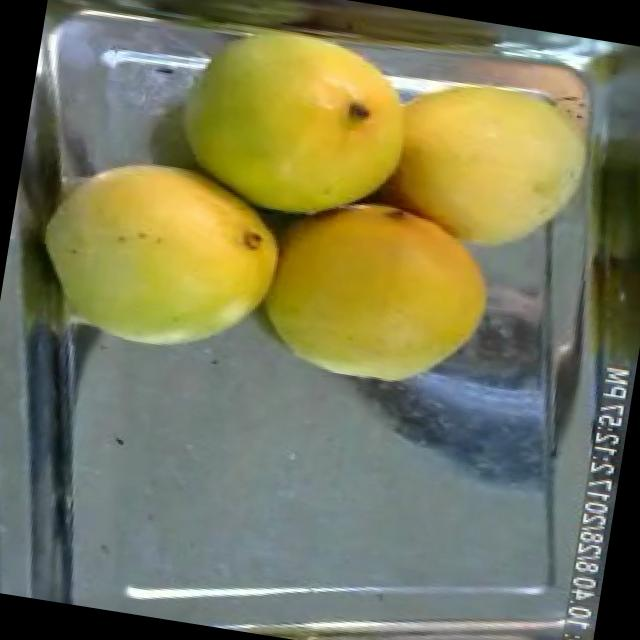fruit: (6, 122, 304, 383), (152, 0, 430, 249), (240, 169, 516, 415), (367, 53, 610, 278)
